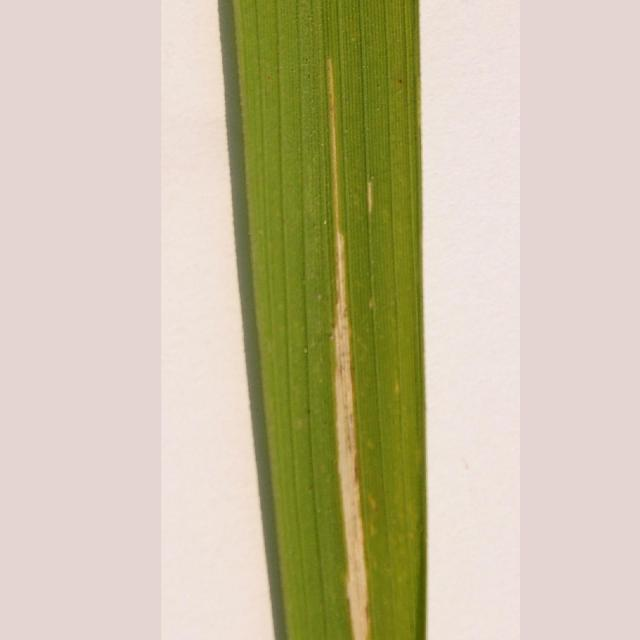leaf blight: (318, 48, 383, 639)
